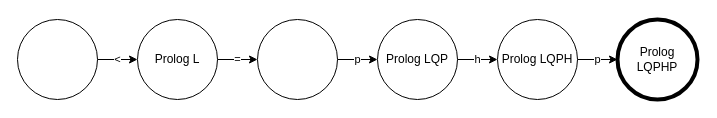
Some shapes in this 717 by 118 pixel diagram are drawn without their labels. Each missing label, with the box of its shape:
Prolog: (16, 18, 98, 100)
Prolog LQ: (256, 18, 338, 100)
